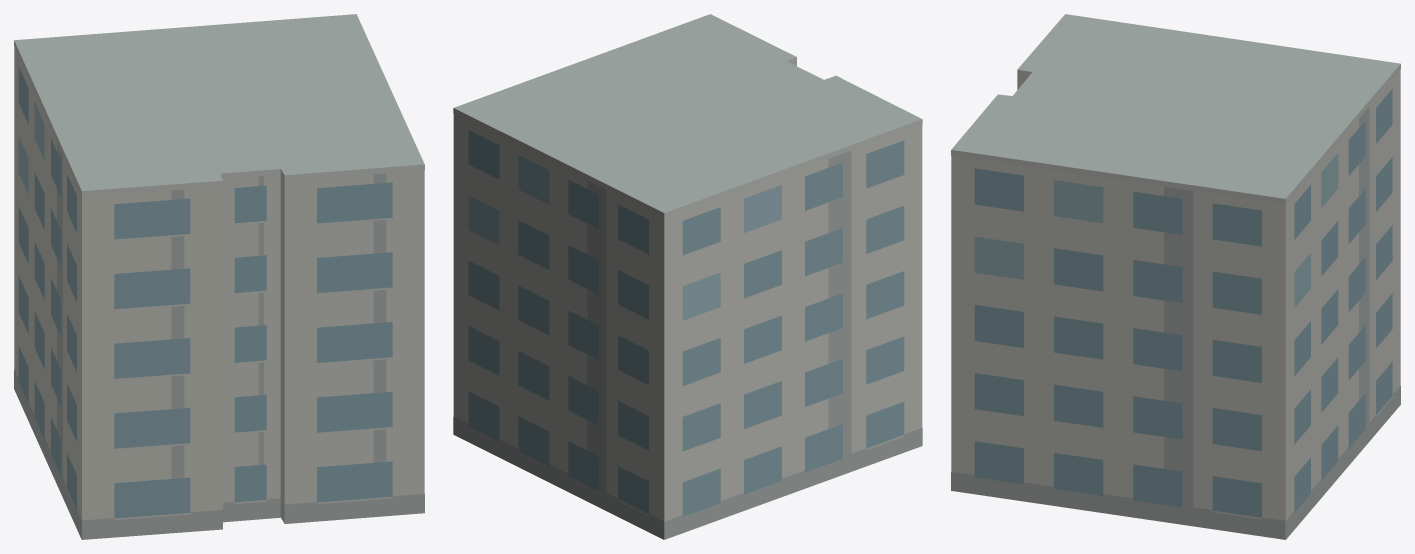
The model's file is survey-upis-32979906.glb.
3 renders of one model, left to right at view 1: azimuth 30°, elevation 25°; view 2: azimuth 150°, elevation 25°; view 3: azimuth 270°, elevation 25°, orthographic. The views are drawn at different scales.
Visible parts, largest first — view 1: survey-upis-32979906.tmp; view 2: survey-upis-32979906.tmp; view 3: survey-upis-32979906.tmp.
Boxes of the visible parts, bbox=[...] form: survey-upis-32979906.tmp: bbox=[14, 14, 424, 539]; survey-upis-32979906.tmp: bbox=[453, 14, 922, 539]; survey-upis-32979906.tmp: bbox=[951, 14, 1400, 539].
Bounding box in the file's own units: 16.76 × 14.4 × 17.22.
